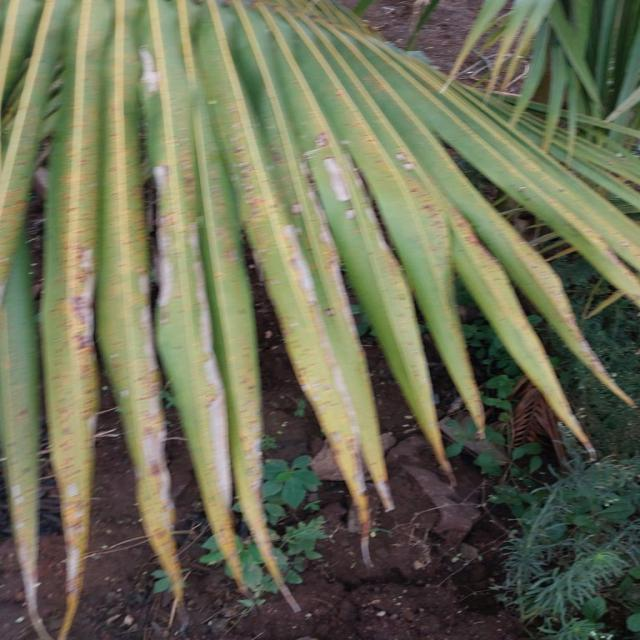gray leaf spot: (53, 43, 401, 539)
